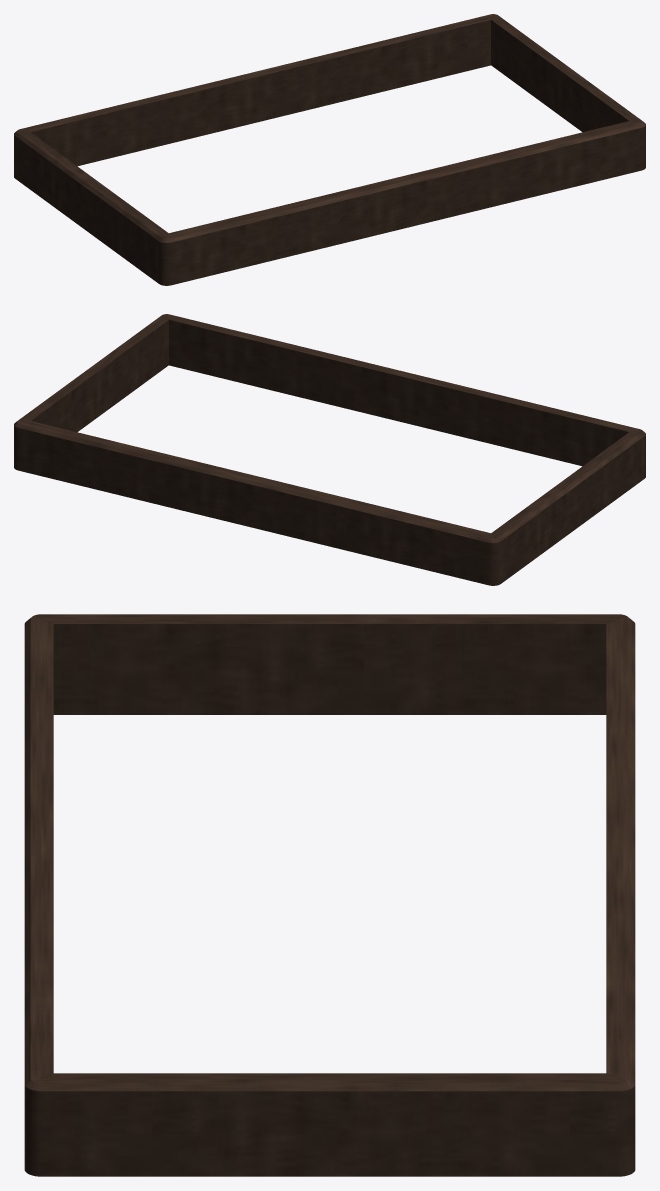
Rendered from rail-caromMedium.glb.
3 renders of one model, top to bottom at view 1: azimuth 30°, elevation 25°; view 2: azimuth 150°, elevation 25°; view 3: azimuth 270°, elevation 25°, orthographic. The views are drawn at different scales.
Visible parts, largest first — view 1: RailOuter_caromMedium, RailInnerWall.002, RailTop_caromMedium; view 2: RailOuter_caromMedium, RailInnerWall.002, RailTop_caromMedium; view 3: RailOuter_caromMedium, RailInnerWall.002, RailTop_caromMedium.
Boxes of the visible parts, box(x1,y1,x2,y2) form: RailOuter_caromMedium: box(14, 125, 645, 285); RailInnerWall.002: box(31, 20, 628, 166); RailTop_caromMedium: box(14, 14, 645, 243); RailOuter_caromMedium: box(14, 425, 645, 585); RailInnerWall.002: box(31, 320, 628, 466); RailTop_caromMedium: box(14, 314, 645, 543); RailOuter_caromMedium: box(24, 1085, 635, 1176); RailInnerWall.002: box(53, 624, 606, 714); RailTop_caromMedium: box(24, 614, 635, 1091).
Size of the model in its own units: 2.69 by 0.241 by 1.46.
Materials: 2 (2 with a texture image).
